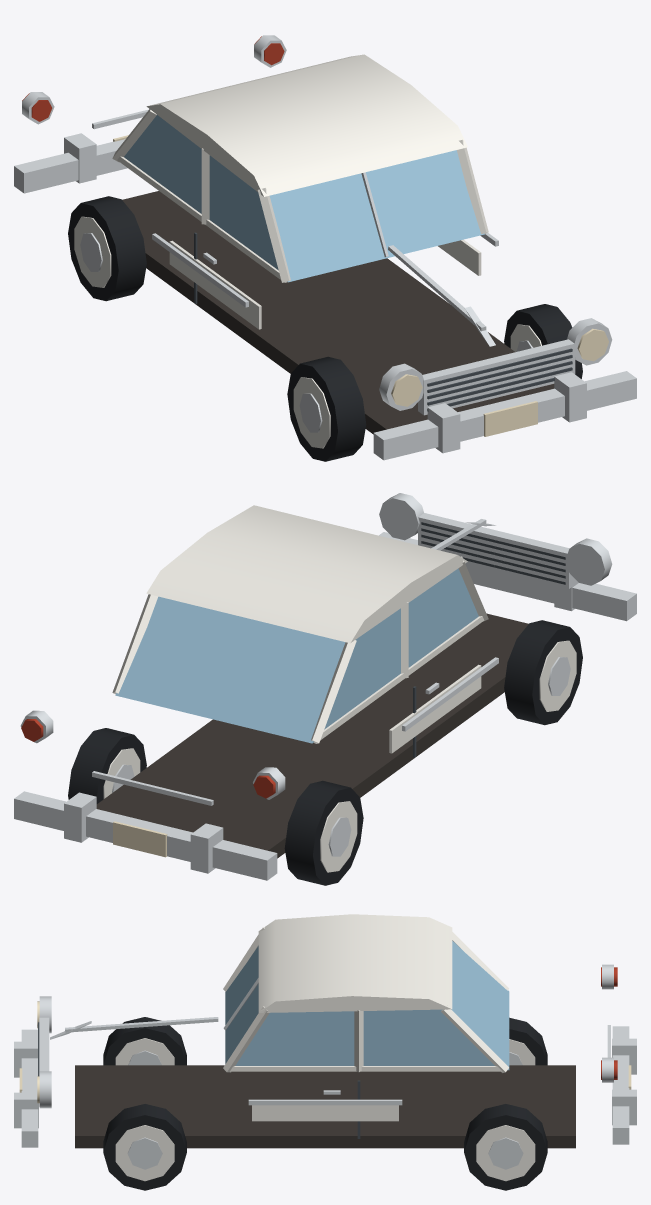
Rendered from Town_CarSedan.fbx.
3 views of the same model, one above another, from view 1: azimuth 30°, elevation 25°; view 2: azimuth 150°, elevation 25°; view 3: azimuth 270°, elevation 25° (orthographic). The views are drawn at different scales.
Parts seen in each view (by area): view 1: Decor, DecorGlassSkyblue, DecorNeonCream, DecorNeonRust; view 2: Decor, DecorGlassSkyblue, DecorNeonRust; view 3: Decor, DecorGlassSkyblue.
Boxes of the visible parts, x1,y1,x2,y2 form: Decor: [14, 35, 636, 461]; DecorGlassSkyblue: [124, 115, 484, 282]; DecorNeonCream: [391, 328, 608, 406]; DecorNeonRust: [22, 36, 284, 121]; Decor: [14, 493, 636, 885]; DecorGlassSkyblue: [115, 568, 478, 743]; DecorNeonRust: [21, 719, 275, 798]; Decor: [14, 914, 636, 1190]; DecorGlassSkyblue: [225, 941, 509, 1070].
Size of the model in its own units: 7.32 by 6.16 by 18.65.
